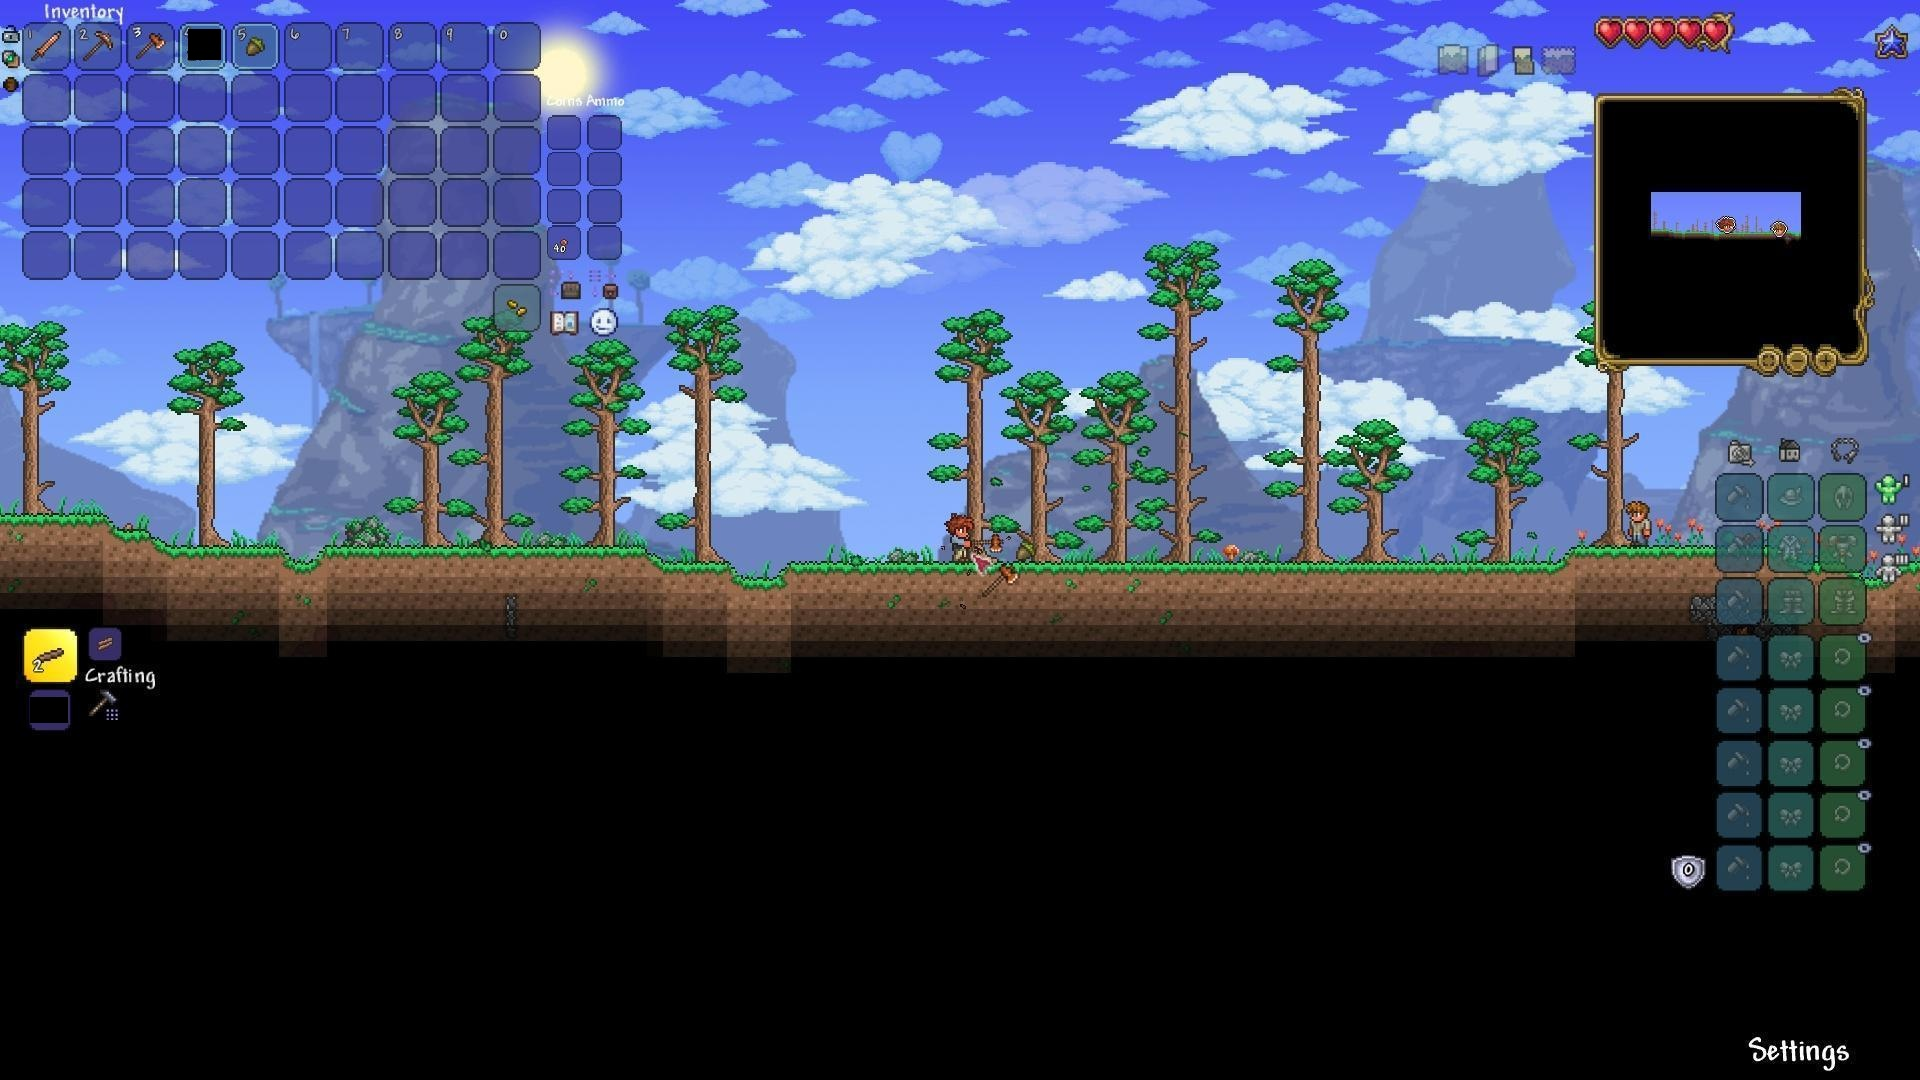wood: (92, 633, 117, 657)
